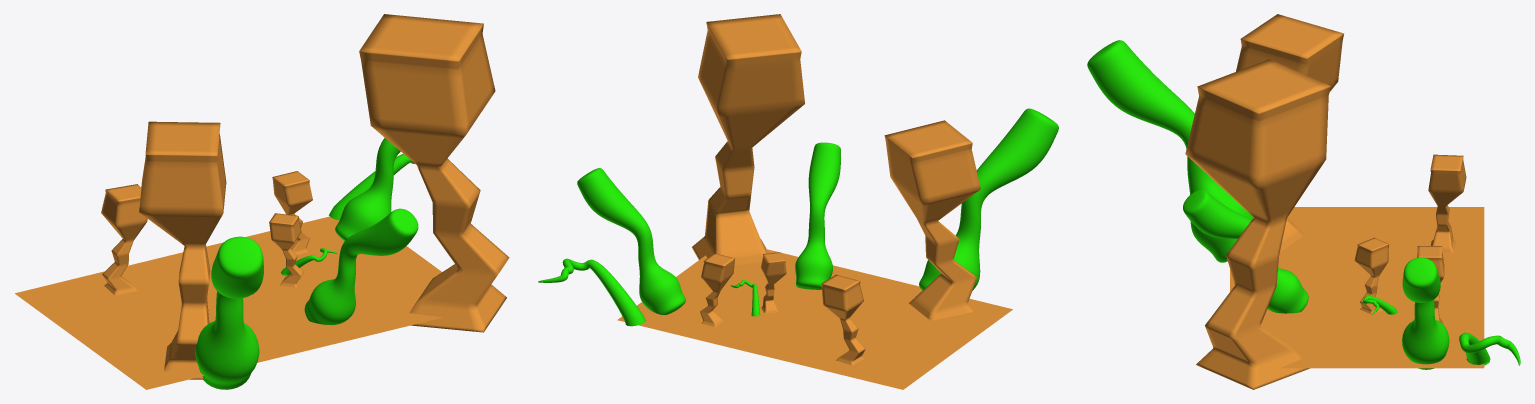
File: Floor_Platforms_001.fbx
3 views of the same model, side by side, from view 1: azimuth 30°, elevation 25°; view 2: azimuth 150°, elevation 25°; view 3: azimuth 270°, elevation 25° (orthographic). The views are drawn at different scales.
Visible parts, largest first — view 1: Floor.Platforms.001, Floor.Platforms.001|cliff.001|Dupli|2, Floor.Platforms.001|cliff.001|Dupli|3, Floor.Platforms.001|cliff|Dupli|1, Floor.Platforms.001|cliff|Dupli|4, Floor.Platforms.001|cliff.001|Dupli|9, Floor.Platforms.001|cliff|Dupli|7, Floor.Platforms.001|cliff.002|Dupli|8, Floor.Platforms.001|cliff.002|Dupli|5, Floor.Platforms.001|BezierCurve.Trunk.002|Dupli|10; view 2: Floor.Platforms.001, Floor.Platforms.001|cliff.001|Dupli|2, Floor.Platforms.001|cliff.001|Dupli|3, Floor.Platforms.001|cliff|Dupli|1, Floor.Platforms.001|cliff|Dupli|7, Floor.Platforms.001|cliff|Dupli|4, Floor.Platforms.001|cliff.001|Dupli|9, Floor.Platforms.001|BezierCurve.Trunk.002|Dupli|10, Floor.Platforms.001|cliff.002|Dupli|8, Floor.Platforms.001|cliff.002|Dupli|5; view 3: Floor.Platforms.001|cliff.001|Dupli|2, Floor.Platforms.001, Floor.Platforms.001|cliff|Dupli|1, Floor.Platforms.001|cliff.001|Dupli|3, Floor.Platforms.001|cliff|Dupli|7, Floor.Platforms.001|cliff|Dupli|4, Floor.Platforms.001|cliff.001|Dupli|9, Floor.Platforms.001|cliff.002|Dupli|5, Floor.Platforms.001|BezierCurve.Trunk.002|Dupli|10, Floor.Platforms.001|cliff.002|Dupli|8.
Boxes of the visible parts, box(x1,y1,x2,y2) form: Floor.Platforms.001: box(15, 216, 442, 389); Floor.Platforms.001|cliff.001|Dupli|2: box(359, 14, 509, 332); Floor.Platforms.001|cliff.001|Dupli|3: box(139, 121, 226, 379); Floor.Platforms.001|cliff|Dupli|1: box(195, 236, 263, 389); Floor.Platforms.001|cliff|Dupli|4: box(304, 208, 418, 325); Floor.Platforms.001|cliff.001|Dupli|9: box(101, 184, 147, 295); Floor.Platforms.001|cliff|Dupli|7: box(335, 138, 400, 240); Floor.Platforms.001|cliff.002|Dupli|8: box(272, 171, 312, 254); Floor.Platforms.001|cliff.002|Dupli|5: box(269, 213, 303, 287); Floor.Platforms.001|BezierCurve.Trunk.002|Dupli|10: box(329, 154, 414, 220); Floor.Platforms.001: box(617, 249, 1012, 389); Floor.Platforms.001|cliff.001|Dupli|2: box(691, 14, 804, 264); Floor.Platforms.001|cliff.001|Dupli|3: box(884, 120, 980, 320); Floor.Platforms.001|cliff|Dupli|1: box(919, 108, 1058, 290); Floor.Platforms.001|cliff|Dupli|7: box(577, 168, 685, 314); Floor.Platforms.001|cliff|Dupli|4: box(795, 142, 840, 289); Floor.Platforms.001|cliff.001|Dupli|9: box(821, 274, 865, 365); Floor.Platforms.001|BezierCurve.Trunk.002|Dupli|10: box(538, 258, 645, 326); Floor.Platforms.001|cliff.002|Dupli|8: box(700, 253, 735, 326); Floor.Platforms.001|cliff.002|Dupli|5: box(761, 252, 786, 313); Floor.Platforms.001|cliff.001|Dupli|2: box(1185, 59, 1330, 389); Floor.Platforms.001: box(1230, 207, 1484, 368); Floor.Platforms.001|cliff|Dupli|1: box(1087, 40, 1253, 262); Floor.Platforms.001|cliff.001|Dupli|3: box(1236, 14, 1344, 251); Floor.Platforms.001|cliff|Dupli|7: box(1402, 257, 1449, 369); Floor.Platforms.001|cliff|Dupli|4: box(1183, 189, 1308, 313); Floor.Platforms.001|cliff.001|Dupli|9: box(1428, 154, 1466, 252); Floor.Platforms.001|cliff.002|Dupli|5: box(1354, 237, 1389, 314); Floor.Platforms.001|BezierCurve.Trunk.002|Dupli|10: box(1459, 332, 1520, 365); Floor.Platforms.001|cliff.002|Dupli|8: box(1417, 246, 1444, 324).
Size of the model in its own units: 736 by 477 by 681.
